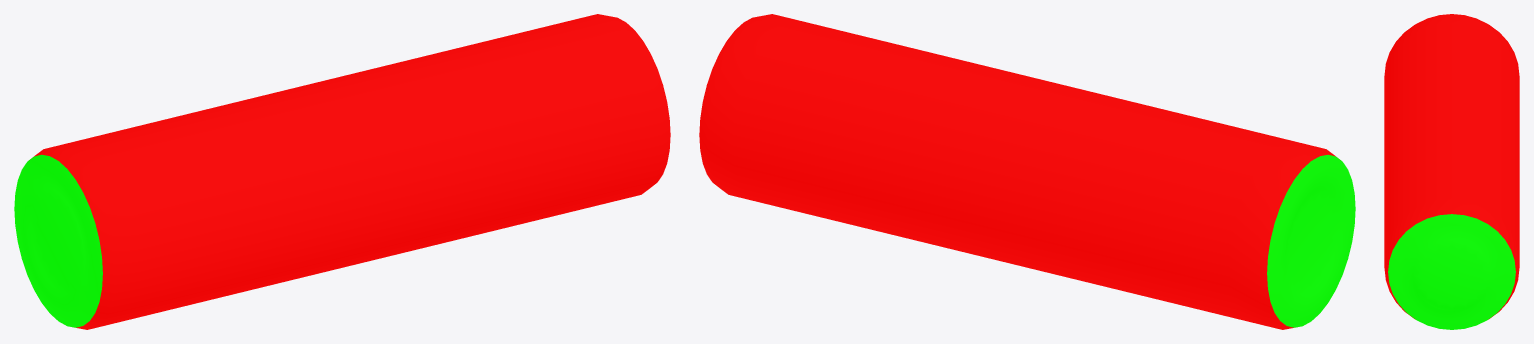
File: Batterie.fbx
3 views of the same model, side by side, from view 1: azimuth 30°, elevation 25°; view 2: azimuth 150°, elevation 25°; view 3: azimuth 270°, elevation 25° (orthographic). The views are drawn at different scales.
Visible parts, largest first — view 1: Battery; view 2: Battery; view 3: Battery.
Boxes of the visible parts, bbox=[...] form: Battery: bbox=[14, 14, 670, 329]; Battery: bbox=[699, 14, 1355, 329]; Battery: bbox=[1384, 14, 1519, 329].
Size of the model in its own units: 5.15 by 1.42 by 1.42.
